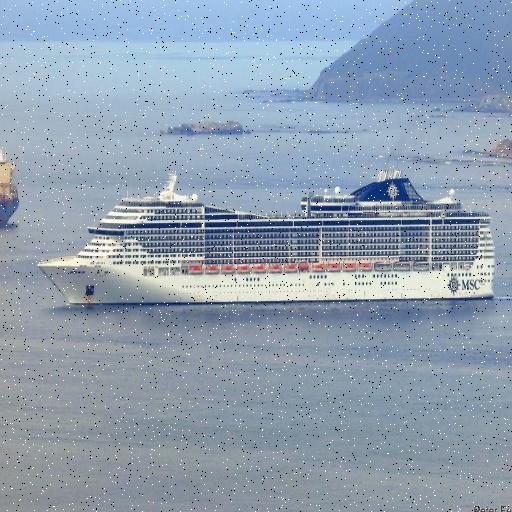cruises: (37, 169, 506, 315)
